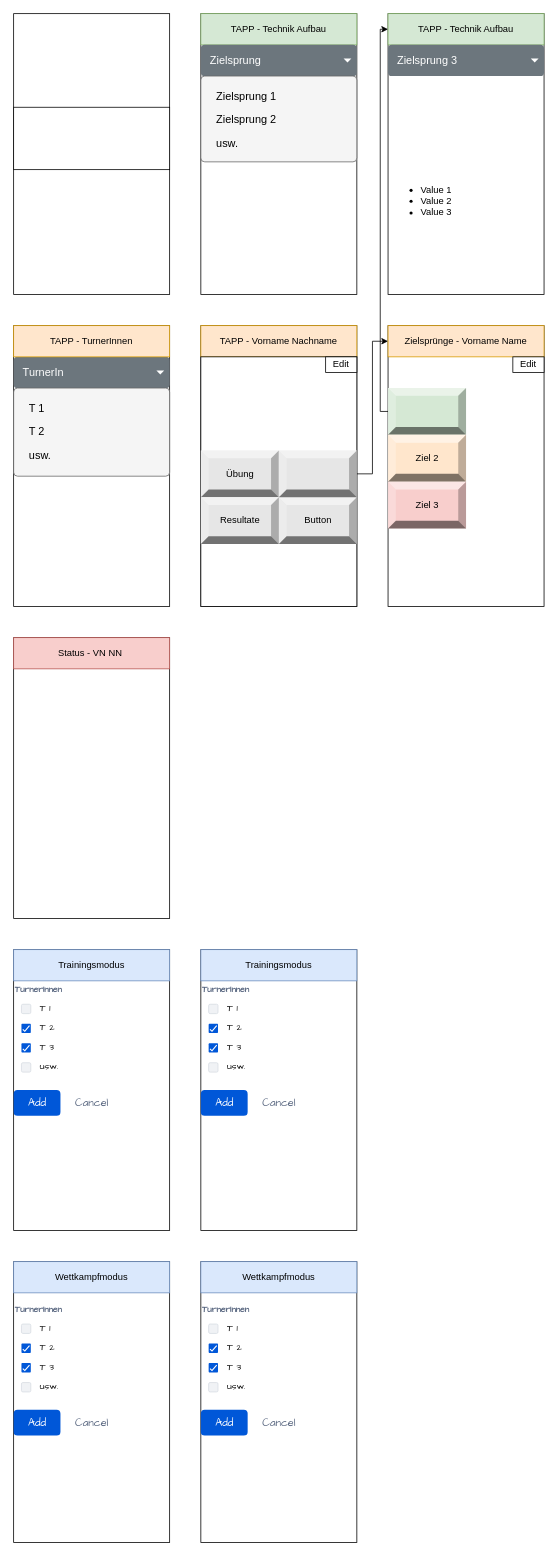
The diagram is 558 pixels wide and 1556 high, and some of its shapes have lost their labels. The box of each missing label's shape, as (x1, y1, x2, y2) in pixels:
Trainings App Tramp SW: (13, 106, 170, 170)
Vn Nn Geb Nrs Kat Eintritt: (200, 356, 357, 606)
Ziel 1: (387, 387, 466, 435)
Ziele: (278, 450, 356, 497)
